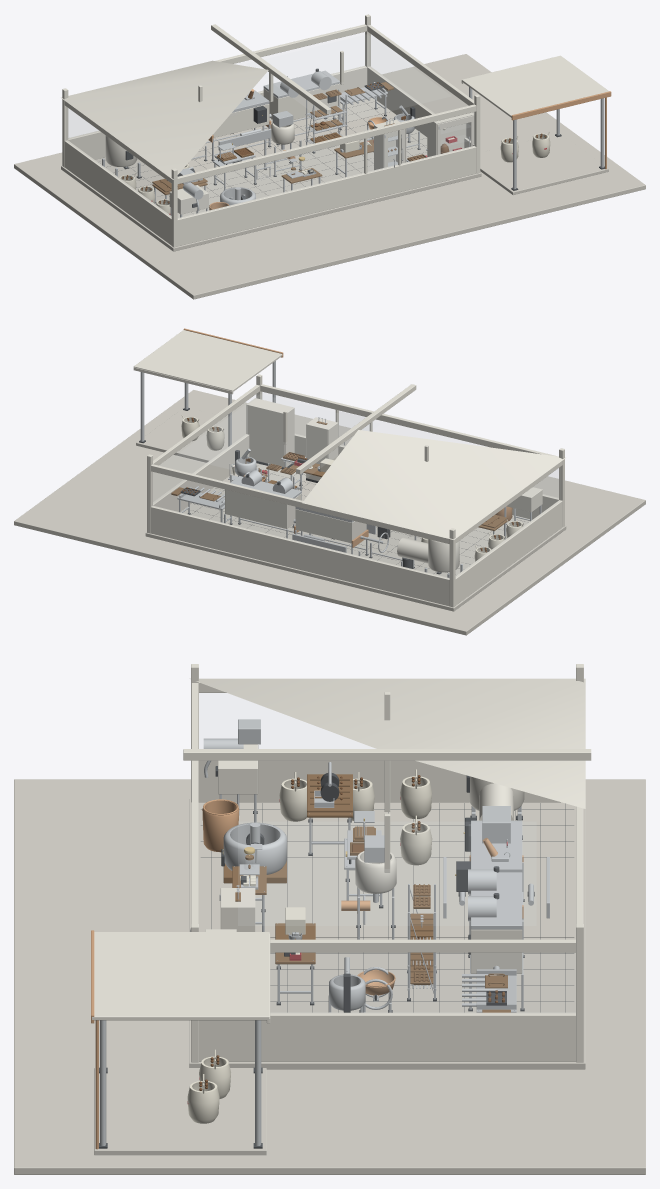
The model's file is chocolate-making-and-confectionery-choco-0bed56f3-starter-scene.glb.
3 renders of one model, top to bottom at view 1: azimuth 30°, elevation 25°; view 2: azimuth 150°, elevation 25°; view 3: azimuth 270°, elevation 25°, orthographic. The views are drawn at different scales.
Parts seen in each view (by area): view 1: 001-roofed-chocolate-workshop/1, 000-chocolate-workshop-floor-base/0, 001-roofed-chocolate-workshop/0, 001-roofed-chocolate-workshop/2, 002-cocoa-receiving-canopy/3, 002-cocoa-receiving-canopy/0, 050-finished-confection-display-cabinet/1, 006-cooling-tunnel/2, 006-cooling-tunnel/0, 046-confection-cooling-cabinet/1, 005-chocolate-enrober/2, 002-cocoa-receiving-canopy/1 (+11 smaller); view 2: 001-roofed-chocolate-workshop/1, 000-chocolate-workshop-floor-base/0, 001-roofed-chocolate-workshop/0, 002-cocoa-receiving-canopy/3, 001-roofed-chocolate-workshop/2, 050-finished-confection-display-cabinet/1, 002-cocoa-receiving-canopy/0, 006-cooling-tunnel/2, 005-chocolate-enrober/2, 046-confection-cooling-cabinet/1, 006-cooling-tunnel/0, 003-chocolate-holding-tank/2 (+5 smaller); view 3: 000-chocolate-workshop-floor-base/0, 001-roofed-chocolate-workshop/1, 001-roofed-chocolate-workshop/0, 002-cocoa-receiving-canopy/3, 002-cocoa-receiving-canopy/0, 006-cooling-tunnel/0, 001-roofed-chocolate-workshop/4, 005-chocolate-enrober/0, 014-stone-chocolate-melanger/1, 002-cocoa-receiving-canopy/1, 006-cooling-tunnel/2, 007-tunnel-outfeed-table/0 (+18 smaller).
Boxes of the visible parts, bbox=[...] form: 001-roofed-chocolate-workshop/1: bbox=[61, 14, 480, 247]; 000-chocolate-workshop-floor-base/0: bbox=[14, 54, 645, 299]; 001-roofed-chocolate-workshop/0: bbox=[61, 98, 481, 251]; 001-roofed-chocolate-workshop/2: bbox=[68, 34, 474, 172]; 002-cocoa-receiving-canopy/3: bbox=[461, 55, 608, 117]; 002-cocoa-receiving-canopy/0: bbox=[480, 133, 608, 194]; 050-finished-confection-display-cabinet/1: bbox=[427, 112, 474, 157]; 006-cooling-tunnel/2: bbox=[263, 83, 340, 119]; 006-cooling-tunnel/0: bbox=[262, 70, 341, 135]; 046-confection-cooling-cabinet/1: bbox=[374, 119, 406, 170]; 005-chocolate-enrober/2: bbox=[213, 104, 269, 137]; 002-cocoa-receiving-canopy/1: bbox=[469, 87, 604, 188]; 001-roofed-chocolate-workshop/1: bbox=[147, 374, 565, 607]; 000-chocolate-workshop-floor-base/0: bbox=[14, 390, 645, 635]; 001-roofed-chocolate-workshop/0: bbox=[145, 463, 566, 611]; 002-cocoa-receiving-canopy/3: bbox=[133, 330, 282, 394]; 001-roofed-chocolate-workshop/2: bbox=[153, 394, 558, 503]; 050-finished-confection-display-cabinet/1: bbox=[246, 398, 294, 467]; 002-cocoa-receiving-canopy/0: bbox=[136, 407, 246, 462]; 006-cooling-tunnel/2: bbox=[225, 489, 301, 528]; 005-chocolate-enrober/2: bbox=[295, 509, 366, 543]; 046-confection-cooling-cabinet/1: bbox=[306, 417, 338, 480]; 006-cooling-tunnel/0: bbox=[224, 470, 302, 538]; 003-chocolate-holding-tank/2: bbox=[428, 539, 459, 572]; 000-chocolate-workshop-floor-base/0: bbox=[14, 779, 645, 1174]; 001-roofed-chocolate-workshop/1: bbox=[183, 664, 591, 1062]; 001-roofed-chocolate-workshop/0: bbox=[189, 798, 585, 1069]; 002-cocoa-receiving-canopy/3: bbox=[92, 932, 270, 1023]; 002-cocoa-receiving-canopy/0: bbox=[94, 1068, 266, 1155]; 006-cooling-tunnel/0: bbox=[468, 869, 523, 1009]; 001-roofed-chocolate-workshop/4: bbox=[201, 803, 573, 1012]; 005-chocolate-enrober/0: bbox=[469, 806, 523, 920]; 014-stone-chocolate-melanger/1: bbox=[223, 822, 286, 874]; 002-cocoa-receiving-canopy/1: bbox=[100, 1020, 261, 1145]; 006-cooling-tunnel/2: bbox=[470, 929, 522, 973]; 007-tunnel-outfeed-table/0: bbox=[462, 969, 516, 1012].
Size of the model in its own units: 16 by 3.72 by 11.
